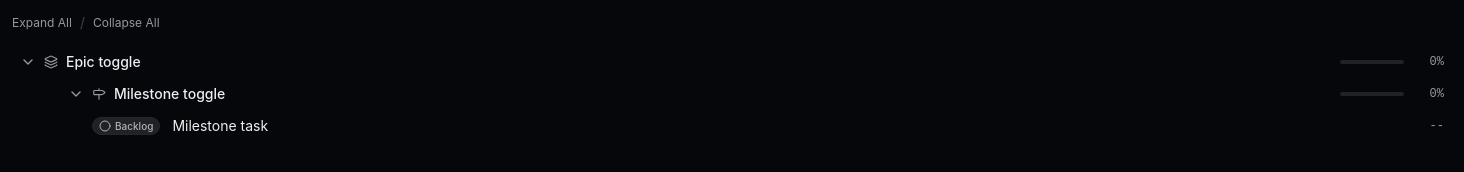
Test: ProjectTree › toggles milestone children independently from epics
The width and height of the screenshot is (1464, 172).
expect the text "Milestone task" is shown: met, box top-left (172, 117), bottom-right (268, 134)
Click the button "Milestone toggle 0%": (170, 93) top-left (12, 78), bottom-right (1452, 110)
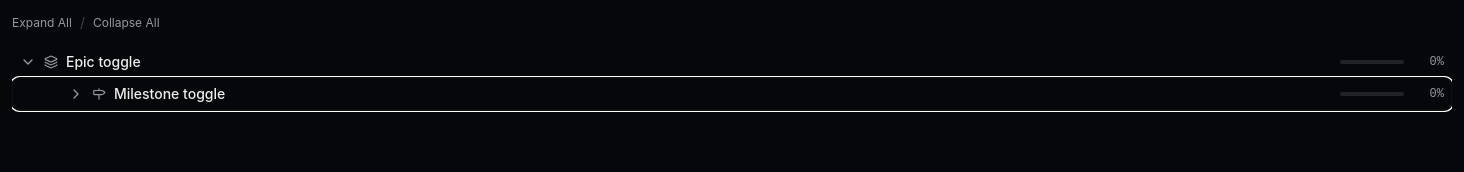
expect the text "Milestone task" is gone: met
Click the button "Milestone toggle 0%": (170, 93) top-left (12, 78), bottom-right (1452, 110)
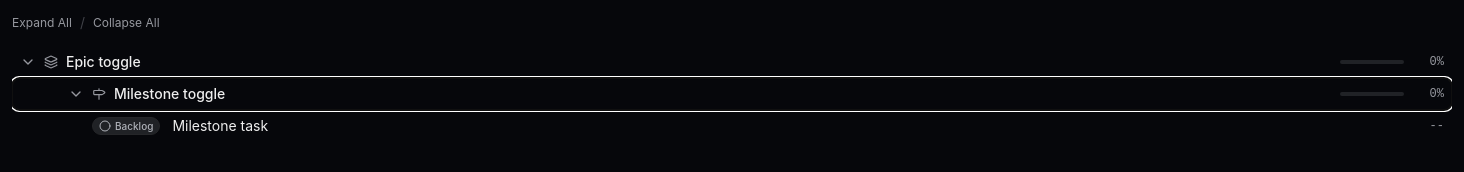
expect the text "Milestone task" is shown: met, box top-left (172, 117), bottom-right (268, 134)
